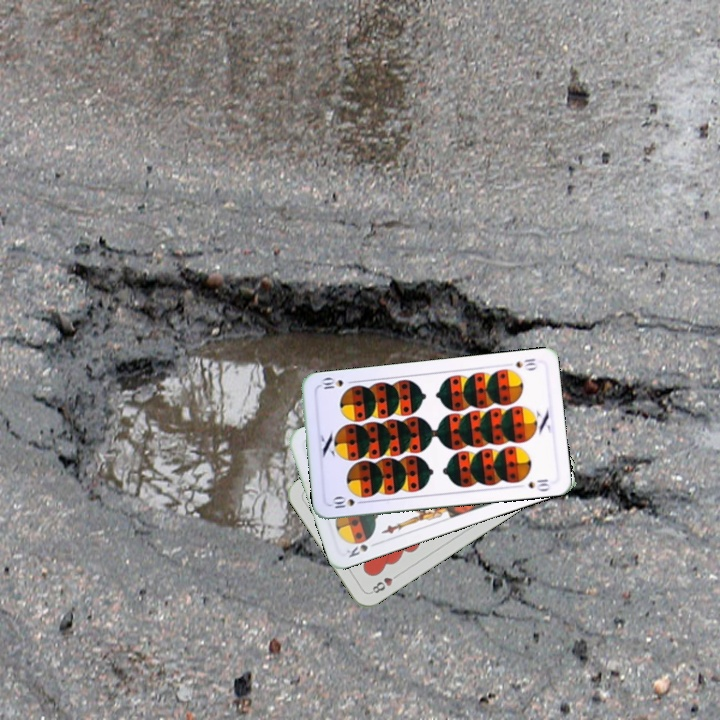H8: (366, 569, 403, 596)
S10: (327, 494, 368, 511), (512, 354, 540, 373)
SK: (343, 535, 373, 560)
